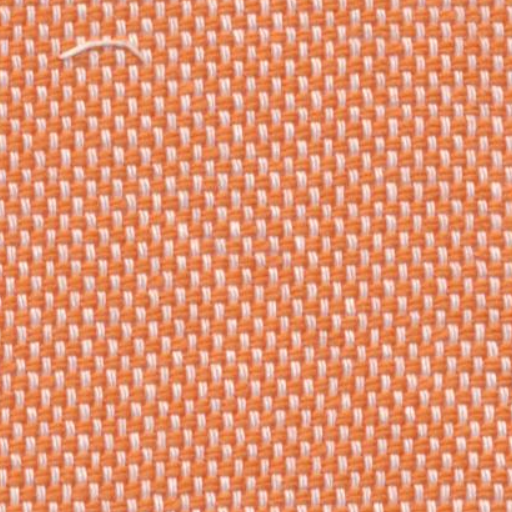DuanSha: (52, 30, 172, 78)
